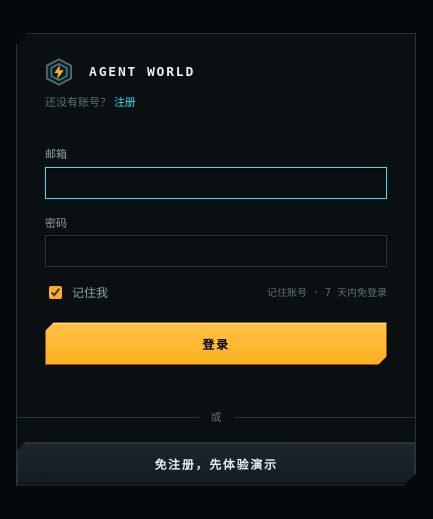
Test: LoginPage › 登录 › 错误信息有 auth-error class
This screenshot has width=433, height=519.
In the field labelled "邮箱": (216,182) [45,166,387,198], type "user@example.com"
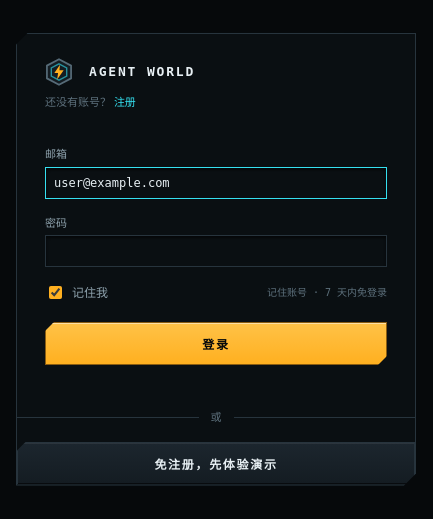
In the password field labelled "密码": (216,251) [45,235,387,267], type "wrong"
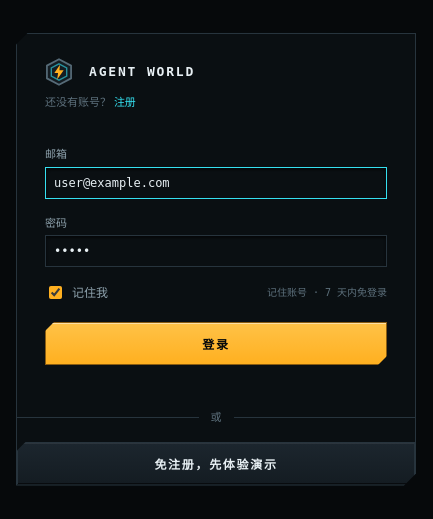
Click the button "登录": (216,344) [45,322,387,365]
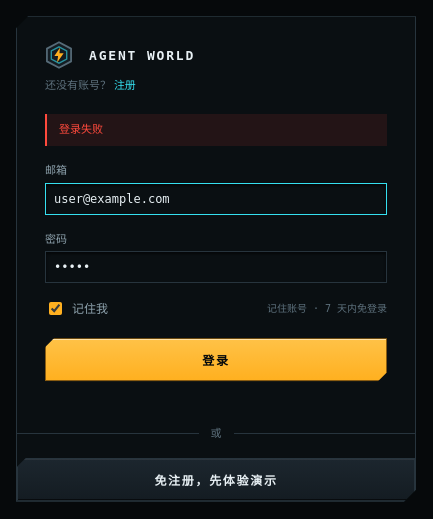
Expected: the text "登录失败" is shown, [45,114,387,146]
